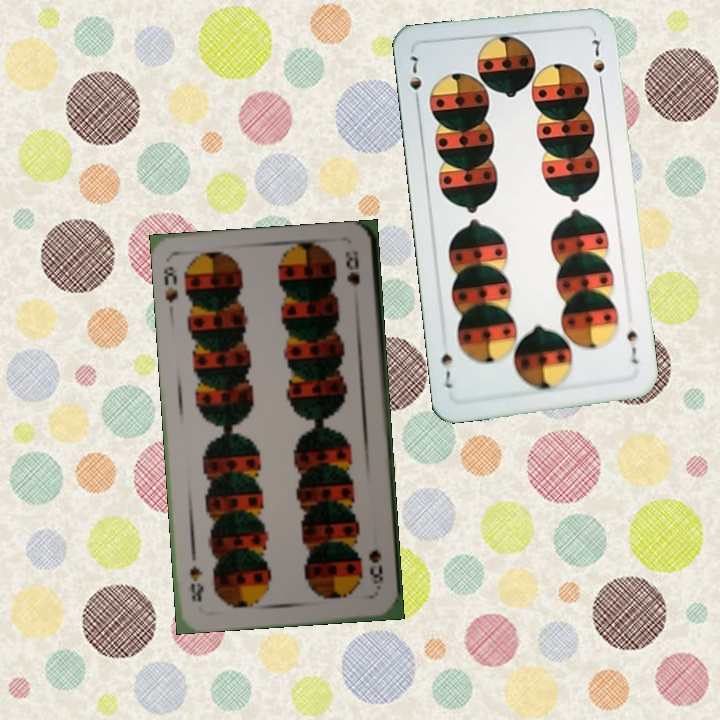S7: (405, 52, 425, 109), (622, 325, 641, 367)
S8: (364, 546, 386, 592), (159, 262, 181, 306)
